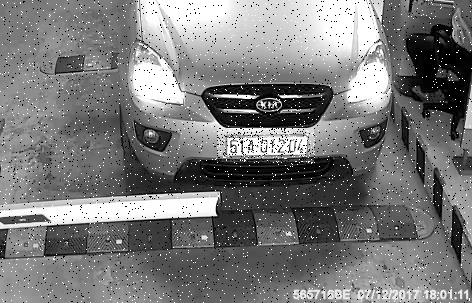License-plate: (219, 130, 317, 165)
